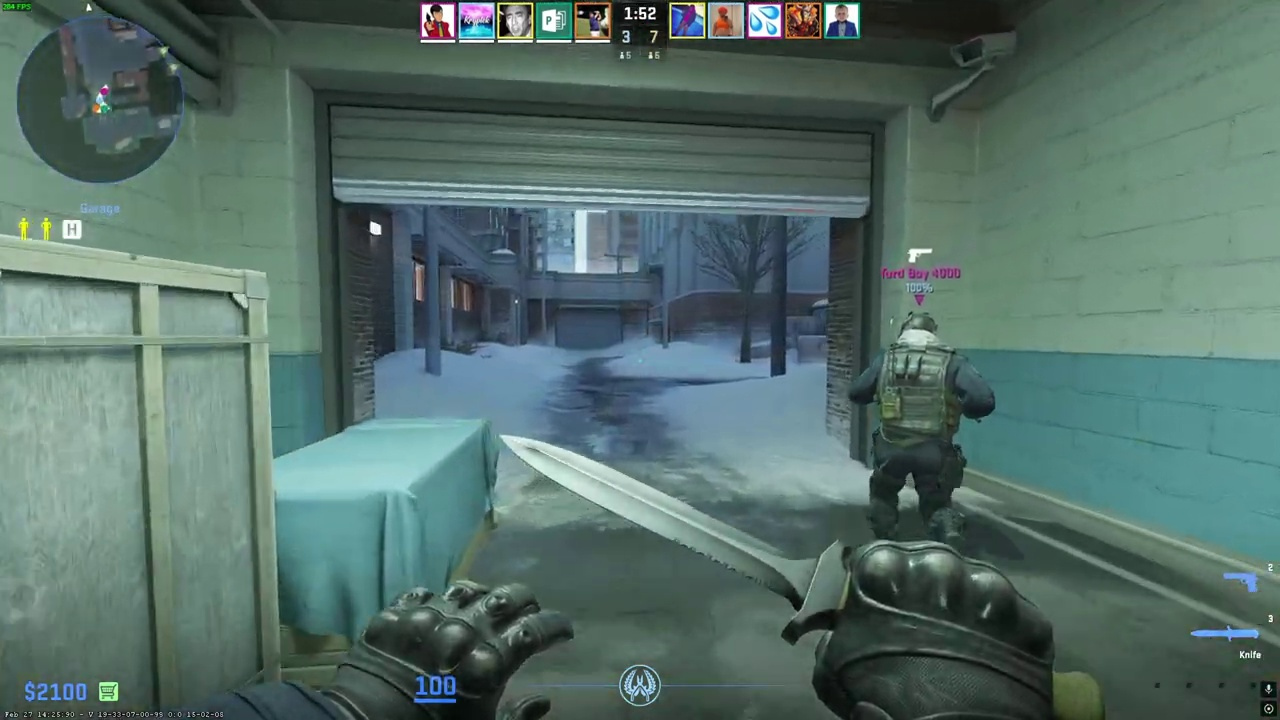CT: (860, 311, 979, 547)
